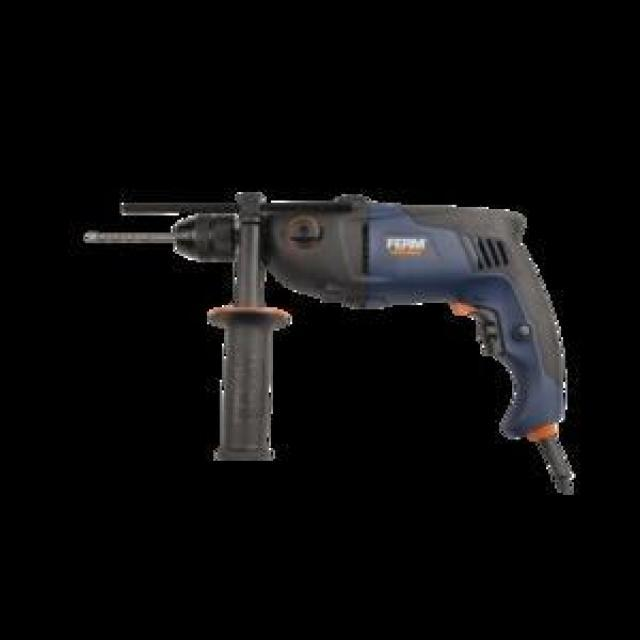drill: (83, 195, 574, 494)
